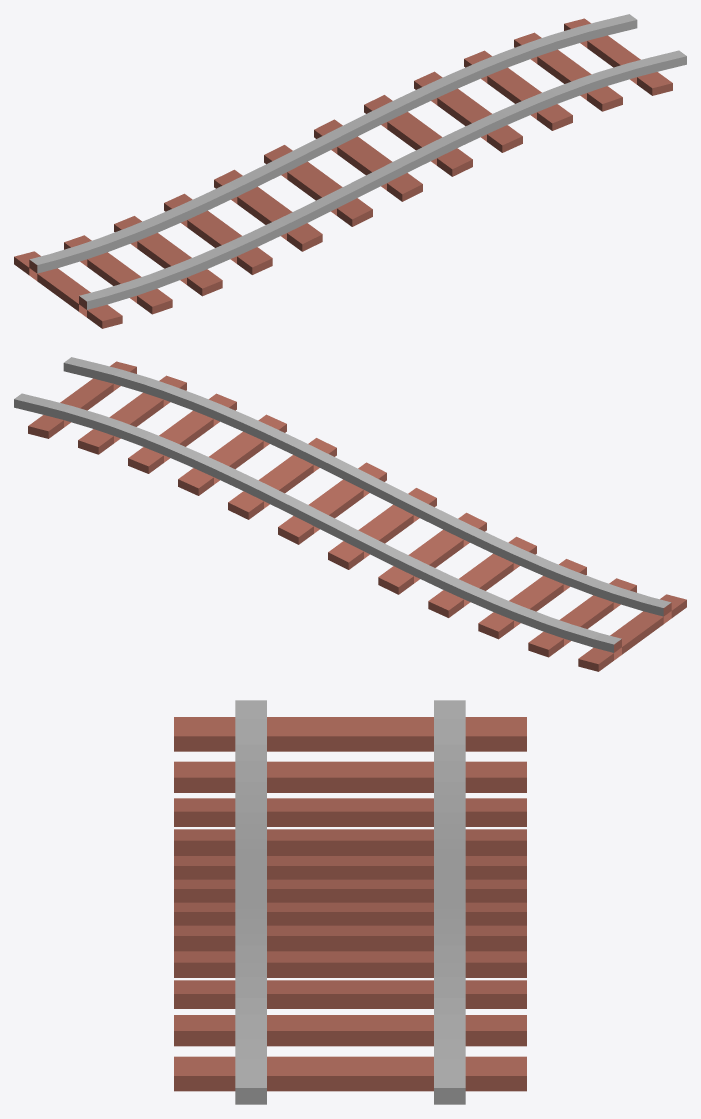
The model's file is railDown.fbx.
3 views of the same model, one above another, from view 1: azimuth 30°, elevation 25°; view 2: azimuth 150°, elevation 25°; view 3: azimuth 270°, elevation 25° (orthographic). The views are drawn at different scales.
Parts seen in each view (by area): view 1: railDown; view 2: railDown; view 3: railDown.
Boxes of the visible parts, left/top/right/bottom form: railDown: left=14, top=14, right=686, bottom=328; railDown: left=14, top=357, right=686, bottom=671; railDown: left=174, top=700, right=526, bottom=1104.
Bounding box in the file's own units: 5.88 × 1.08 × 1.5.
